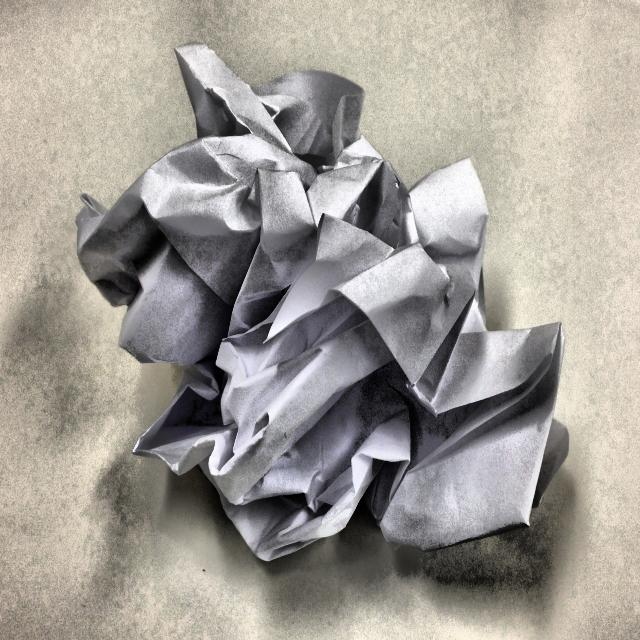Paper: (60, 27, 572, 580)
